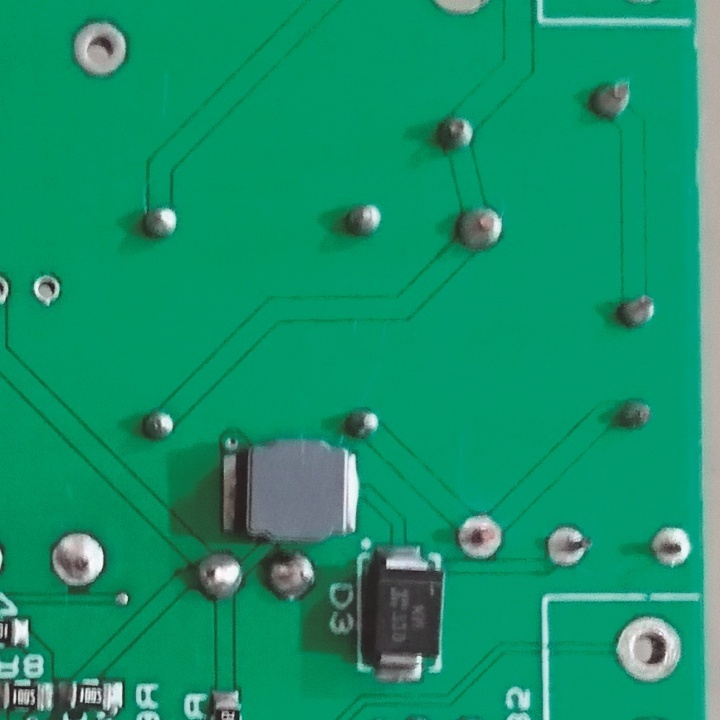F: (614, 610, 683, 687), (72, 18, 136, 80), (49, 530, 107, 589), (456, 512, 506, 566), (541, 520, 591, 570), (651, 521, 696, 572), (28, 275, 66, 306)
